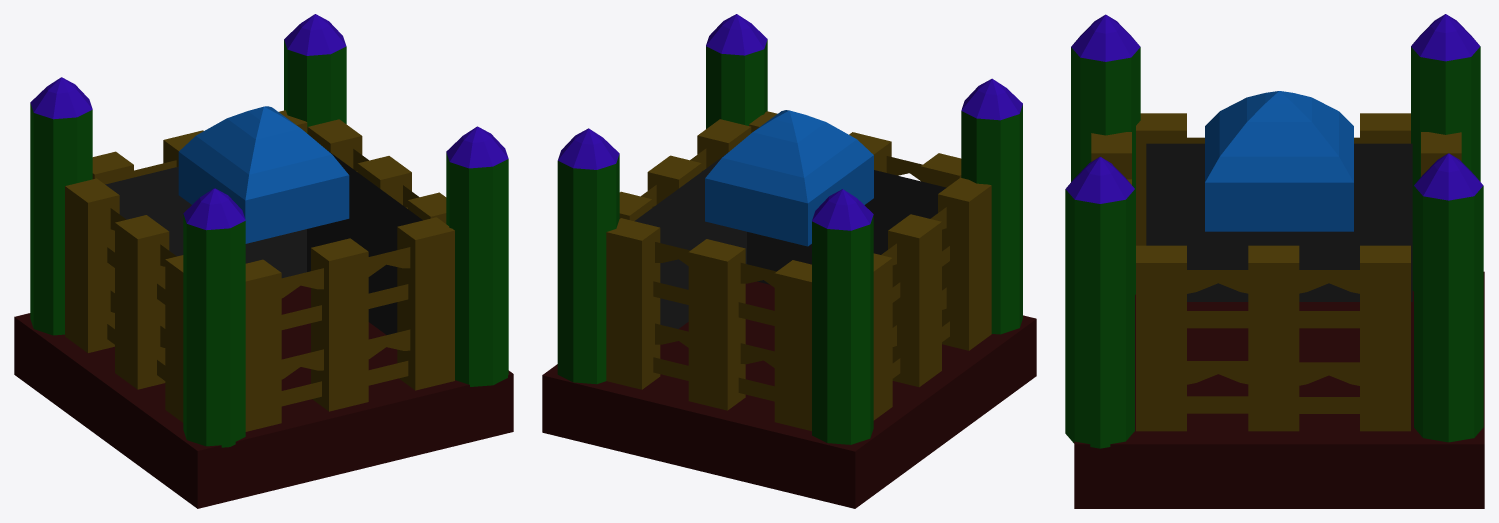
The model's file is royalpalace.obj.
3 renders of one model, left to right at view 1: azimuth 30°, elevation 25°; view 2: azimuth 150°, elevation 25°; view 3: azimuth 270°, elevation 25°, orthographic. The views are drawn at different scales.
Parts seen in each view (by area): view 1: Cube.004, Cube.003, Cube.006, Cube.002, Cube.005, Cube, Cube.009, Cube.008, Cube.015_Cube.016, Cube.014_Cube.015, Cube.007, Cube.001 (+14 smaller); view 2: Cube.004, Cube.006, Cube, Cube.001, Cube.003, Cube.005, Cube.012_Cube.013, Cube.011_Cube.012, Cube.013_Cube.014, Cube.015_Cube.016, Cube.010_Cube.011, Cube.002 (+15 smaller); view 3: Cube.004, Cube.006, Cube.002, Cube.005, Cube.001, Cube.018_Cube.019, Cube.016_Cube.017, Cube.017_Cube.018, Cube, Cube.003, Cube.013_Cube.014, Cube.014_Cube.015 (+10 smaller).
Boxes of the visible parts, bbox=[...] form: Cube.004: bbox=[14, 285, 513, 508]; Cube.003: bbox=[183, 188, 245, 447]; Cube.006: bbox=[178, 106, 349, 243]; Cube.002: bbox=[446, 126, 508, 386]; Cube.005: bbox=[105, 150, 422, 334]; Cube: bbox=[30, 77, 92, 335]; Cube.009: bbox=[311, 238, 368, 411]; Cube.008: bbox=[397, 217, 454, 390]; Cube.015_Cube.016: bbox=[115, 215, 169, 389]; Cube.014_Cube.015: bbox=[65, 178, 119, 352]; Cube.007: bbox=[245, 259, 281, 431]; Cube.001: bbox=[284, 14, 346, 133]; Cube.004: bbox=[542, 281, 1036, 508]; Cube.006: bbox=[705, 110, 873, 246]; Cube: bbox=[812, 189, 873, 444]; Cube.001: bbox=[557, 128, 619, 384]; Cube.003: bbox=[961, 78, 1022, 334]; Cube.005: bbox=[634, 153, 946, 328]; Cube.012_Cube.013: bbox=[688, 239, 745, 410]; Cube.011_Cube.012: bbox=[606, 218, 660, 389]; Cube.013_Cube.014: bbox=[938, 177, 991, 350]; Cube.015_Cube.016: bbox=[888, 214, 941, 387]; Cube.010_Cube.011: bbox=[774, 260, 811, 431]; Cube.002: bbox=[706, 14, 767, 128]; Cube.004: bbox=[1074, 271, 1484, 508]; Cube.006: bbox=[1205, 91, 1353, 231]; Cube.002: bbox=[1065, 156, 1134, 448]; Cube.005: bbox=[1146, 143, 1412, 301]; Cube.001: bbox=[1414, 153, 1483, 442]; Cube.018_Cube.019: bbox=[1248, 245, 1299, 431]; Cube.016_Cube.017: bbox=[1136, 245, 1186, 431]; Cube.017_Cube.018: bbox=[1360, 245, 1410, 431]; Cube: bbox=[1411, 14, 1480, 291]; Cube.003: bbox=[1071, 14, 1140, 294]; Cube.013_Cube.014: bbox=[1136, 113, 1186, 245]; Cube.014_Cube.015: bbox=[1360, 113, 1410, 143].
Size of the model in its own units: 1.15 by 1.04 by 1.17.
